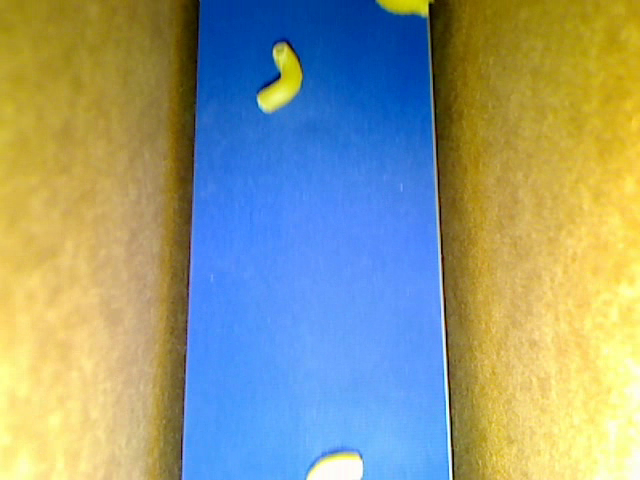elbow: (255, 41, 302, 114)
